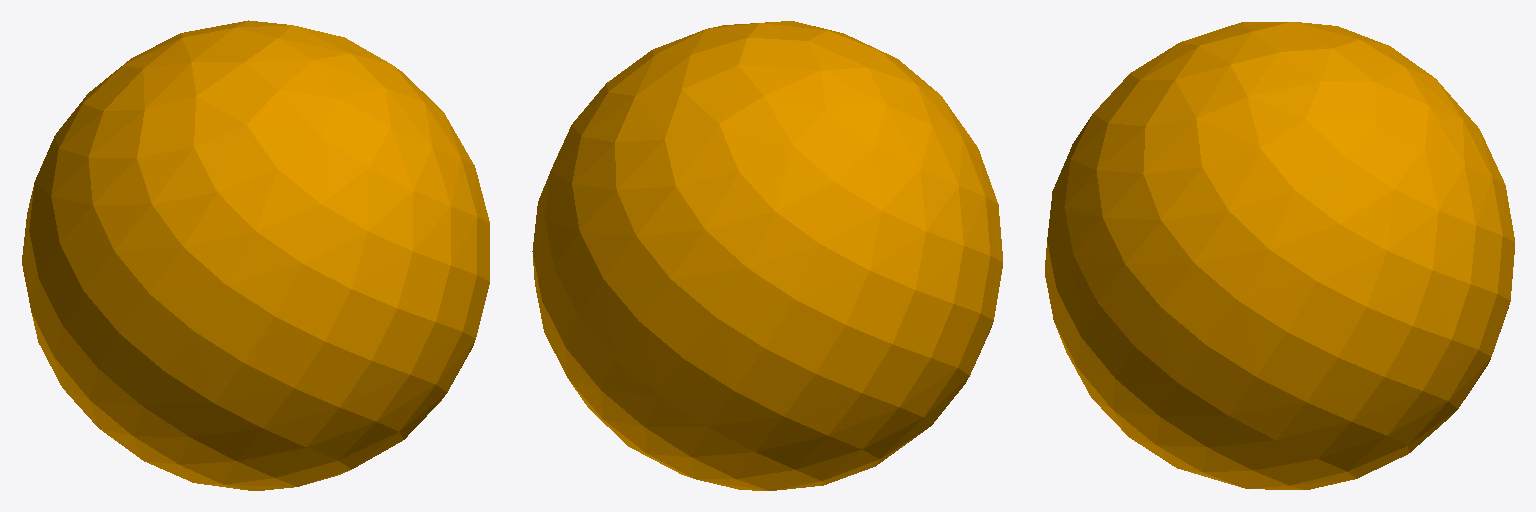
URDF robot description (object):
<?xml version="1.0"?>
<robot name="object">
  <link name="object">
    <visual>
      <origin xyz="0 0 0"/>
      <geometry>
        <mesh filename="meshes/set2/ball_1.obj" scale=".03 .03 .03"/>
      </geometry>
    </visual>
    <collision>
  <origin xyz="0 0 0"/>
  <geometry>
    <mesh filename="meshes/set2/ball_1_0decompose.obj" scale=".03 .03 .03"/>
  </geometry>
</collision>
    <inertial>
      <density value="1000.0"/>
    </inertial>
  </link>
</robot>

--- Facts derived from the render (not from the file) ---
The picture shows the robot from 3 angles, left to right: view 1: azimuth 30°, elevation 25°; view 2: azimuth 150°, elevation 25°; view 3: azimuth 270°, elevation 25°; orthographic projection.
Model object with 1 links and 0 joints (none), rooted at object, posed every joint at zero.
Links seen in each view (by area): view 1: object; view 2: object; view 3: object.
Link boxes in pixels (x1,y1,x2,y2): object: (22, 20, 489, 490); object: (532, 21, 1002, 490); object: (1045, 22, 1514, 489).
Bounding box of the posed robot: 0.0597 × 0.0597 × 0.0597 m (x, y, z).
1 mesh visuals loaded from 1 distinct referenced files (1 OBJ).
